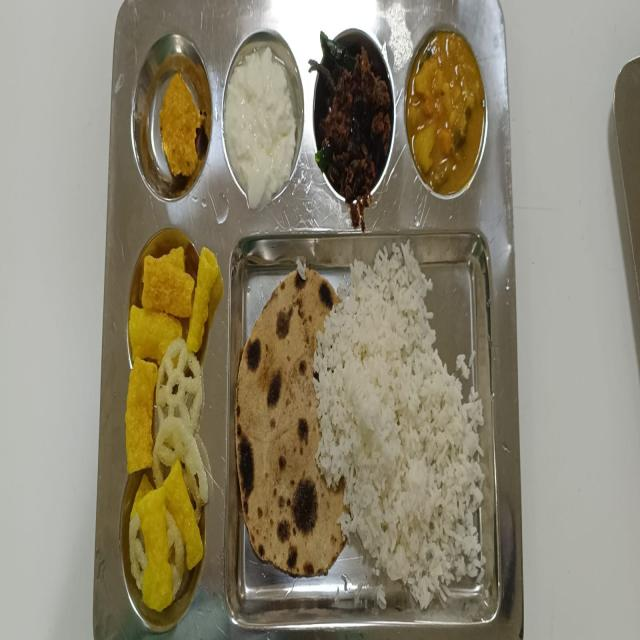Bendakaya fry: (311, 38, 392, 220)
Curd: (222, 38, 302, 213)
Fryums: (126, 224, 209, 637)
Mixed vegetable curry: (409, 23, 486, 210)
Roti: (242, 271, 316, 569)
Roti pachadi: (150, 60, 206, 203)
White rice: (337, 291, 485, 586)
